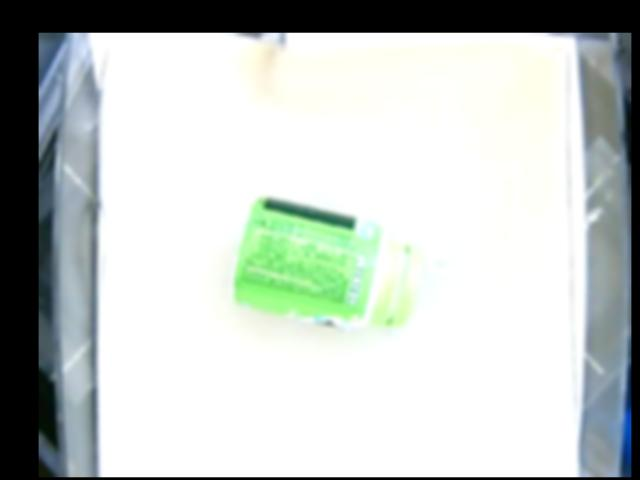Bottle: (231, 191, 423, 332)
